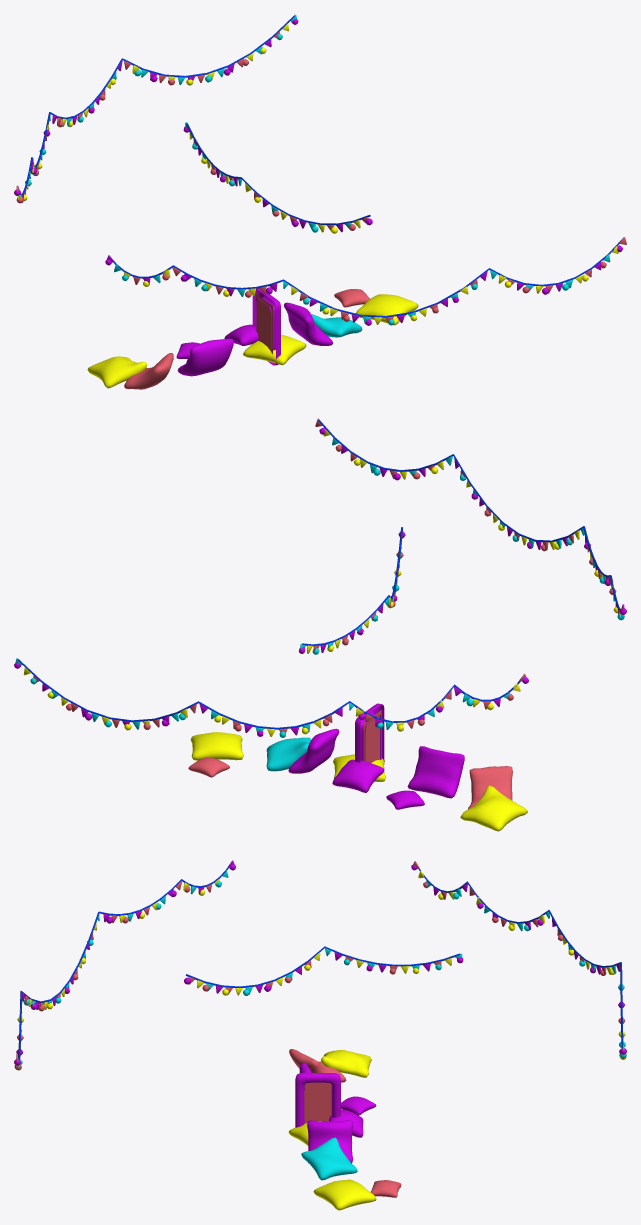
File: collection_decos.fbx
3 views of the same model, one above another, from view 1: azimuth 30°, elevation 25°; view 2: azimuth 150°, elevation 25°; view 3: azimuth 270°, elevation 25° (orthographic). The views are drawn at different scales.
Parts seen in each view (by area): view 1: pillows, guirlande_fanion, guirlande_sphere, cadre; view 2: pillows, guirlande_fanion, guirlande_sphere, cadre; view 3: pillows, guirlande_fanion, cadre, guirlande_sphere.
Boxes of the visible parts, left/top/right/bottom form: pillows: left=87, top=289, right=418, bottom=389; guirlande_fanion: left=16, top=14, right=626, bottom=324; guirlande_sphere: left=14, top=16, right=622, bottom=325; cadre: left=252, top=288, right=280, bottom=365; pillows: left=188, top=728, right=527, bottom=831; guirlande_fanion: left=15, top=418, right=624, bottom=736; guirlande_sphere: left=14, top=427, right=626, bottom=737; cadre: left=355, top=703, right=384, bottom=764; pillows: left=288, top=1049, right=401, bottom=1210; guirlande_fanion: left=16, top=860, right=624, bottom=1068; cadre: left=295, top=1073, right=340, bottom=1127; guirlande_sphere: left=14, top=864, right=626, bottom=1070.
Size of the model in its own units: 929 by 400 by 1228.
